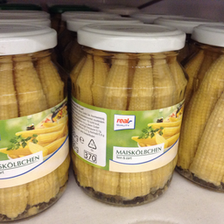corn: (68, 22, 188, 206), (1, 23, 71, 223), (178, 24, 224, 193)
